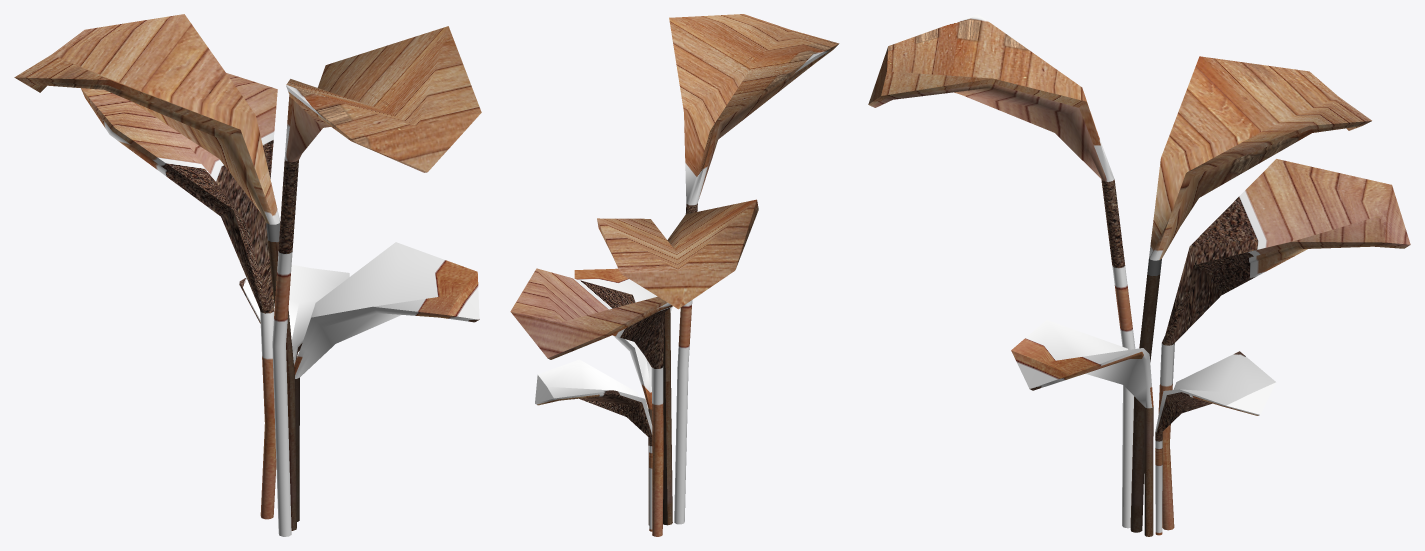
The picture shows the model from 3 angles, left to right: view 1: azimuth 30°, elevation 25°; view 2: azimuth 150°, elevation 25°; view 3: azimuth 270°, elevation 25°; orthographic projection. The views are drawn at different scales.
Visible parts, largest first — view 1: _Plant_9_2; view 2: _Plant_9_2; view 3: _Plant_9_2.
Boxes of the visible parts, left/top/right/bottom form: _Plant_9_2: left=14, top=14, right=481, bottom=536; _Plant_9_2: left=510, top=14, right=839, bottom=536; _Plant_9_2: left=868, top=14, right=1410, bottom=536.
Size of the model in its own units: 174 by 273 by 276.
